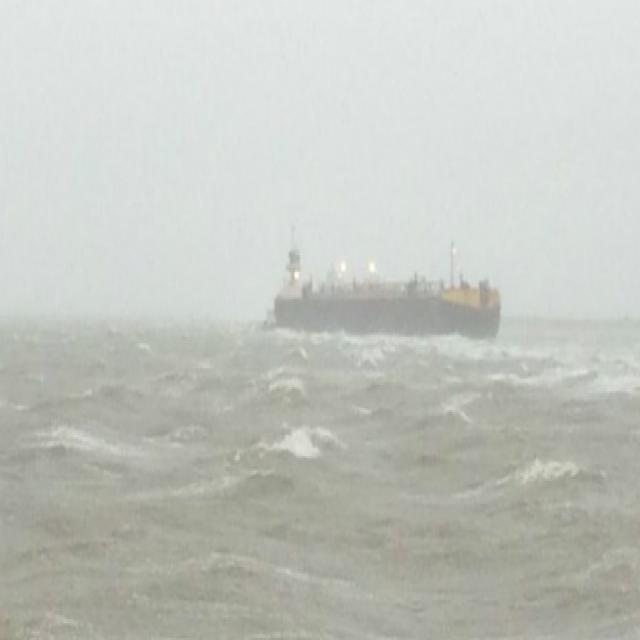cargoship: (273, 228, 501, 346)
